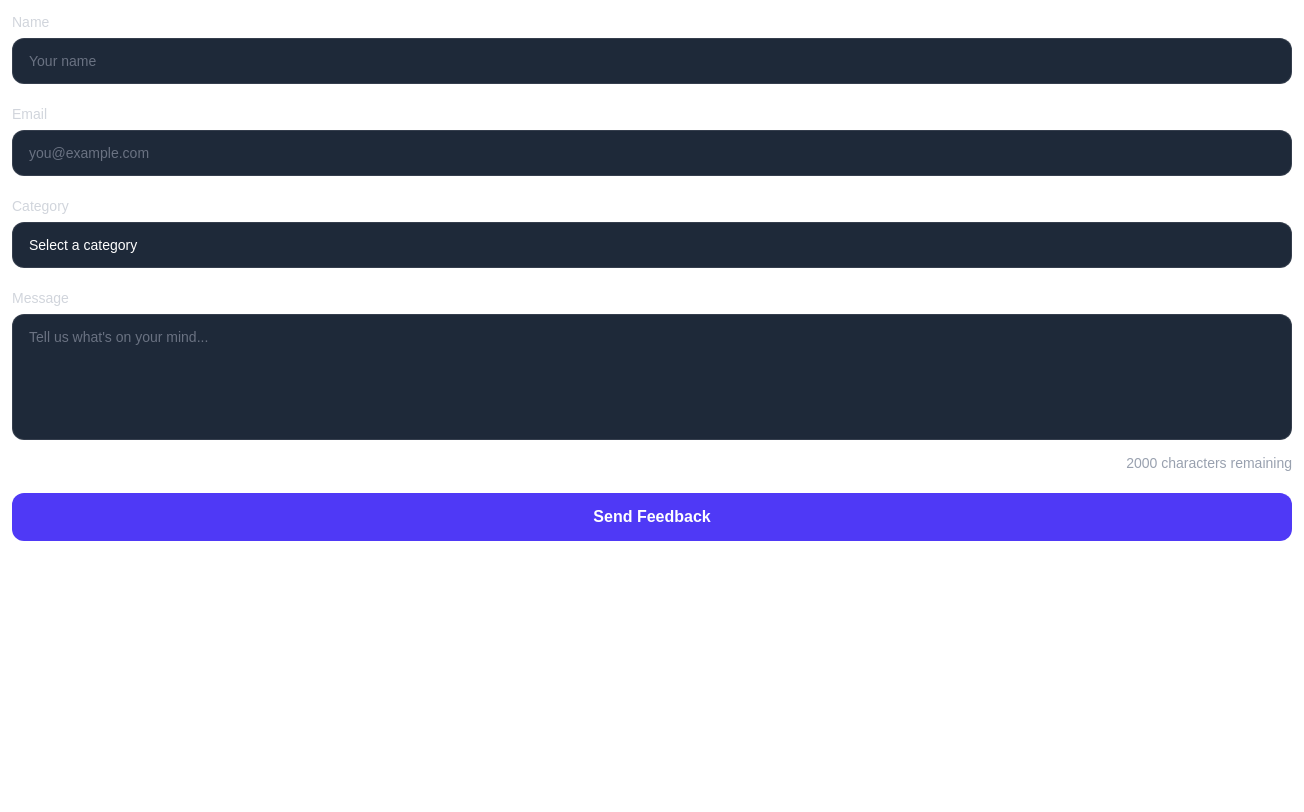
FeedbackForm › shows network error message when fetch throws
This screenshot has width=1304, height=812.
In the field labelled "Name": (652, 61) [12, 38, 1292, 84], type "Test User"
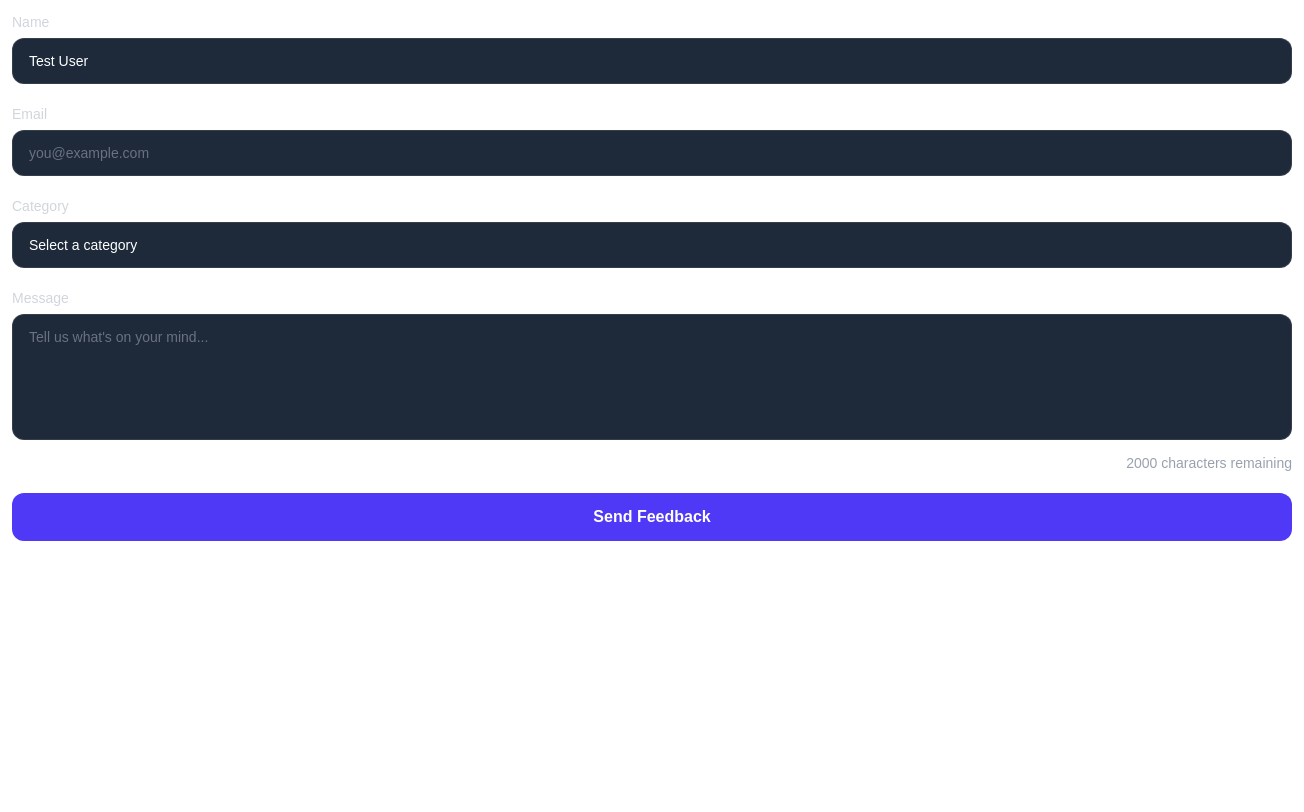
In the field labelled "Email": (652, 153) [12, 130, 1292, 176], type "test@example.com"
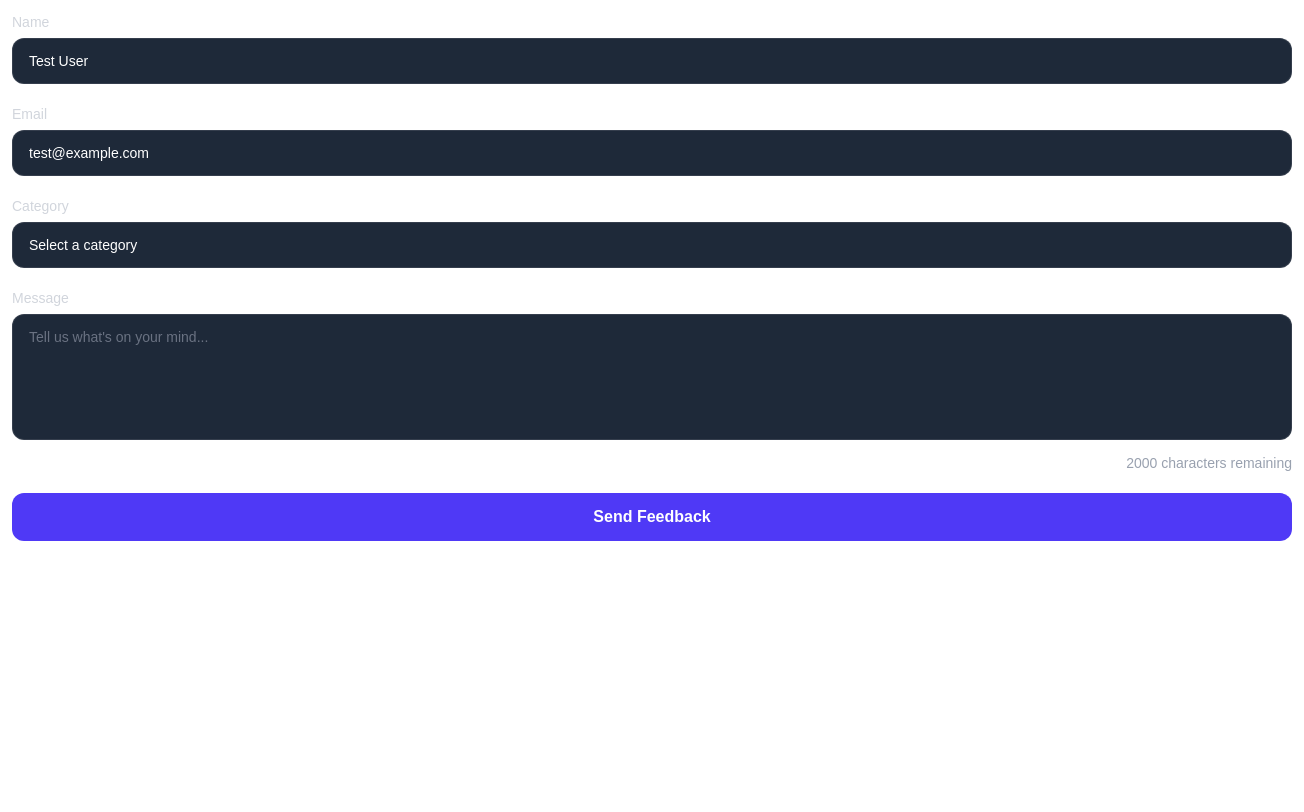
Select "Bug Report" in the dropdown labelled "Category": (652, 245) [12, 222, 1292, 268]
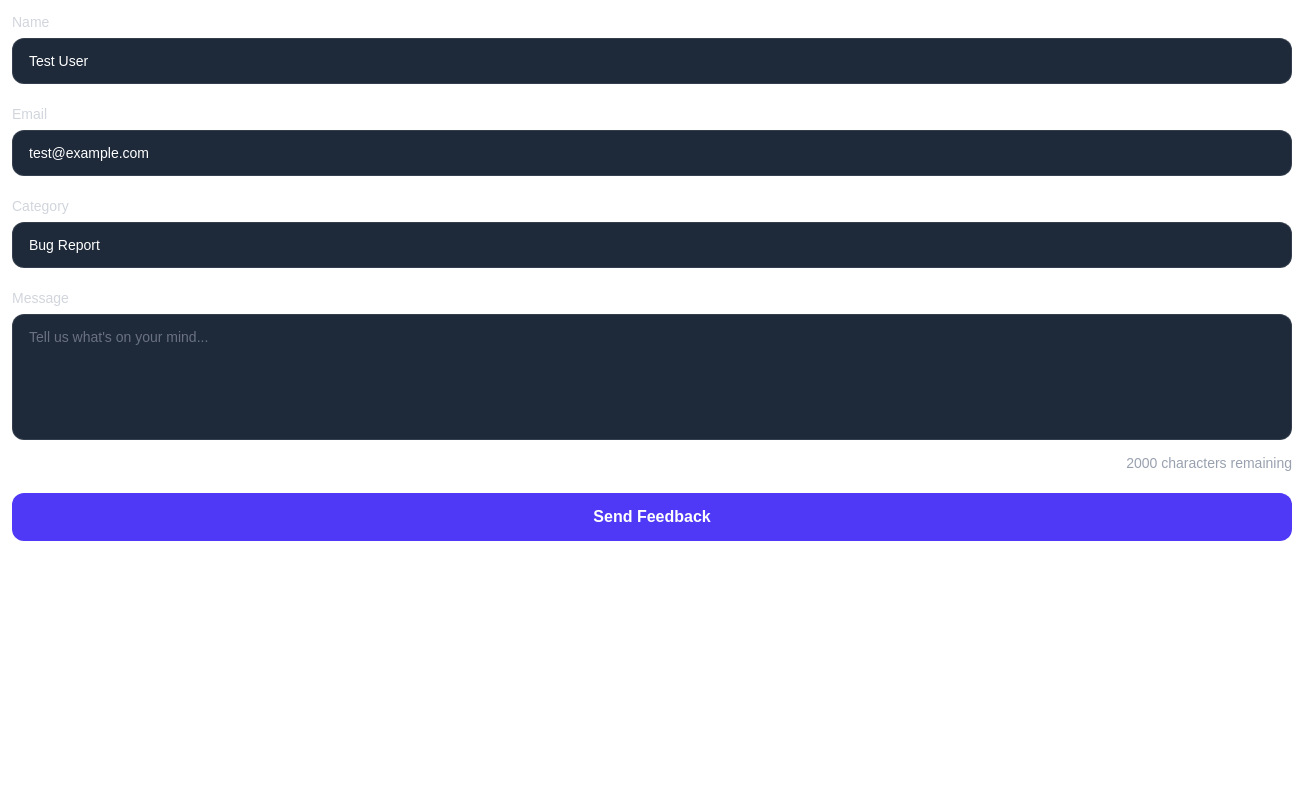
In the text box labelled "Message": (652, 377) [12, 314, 1292, 440], type "This is a test message that is long enough."
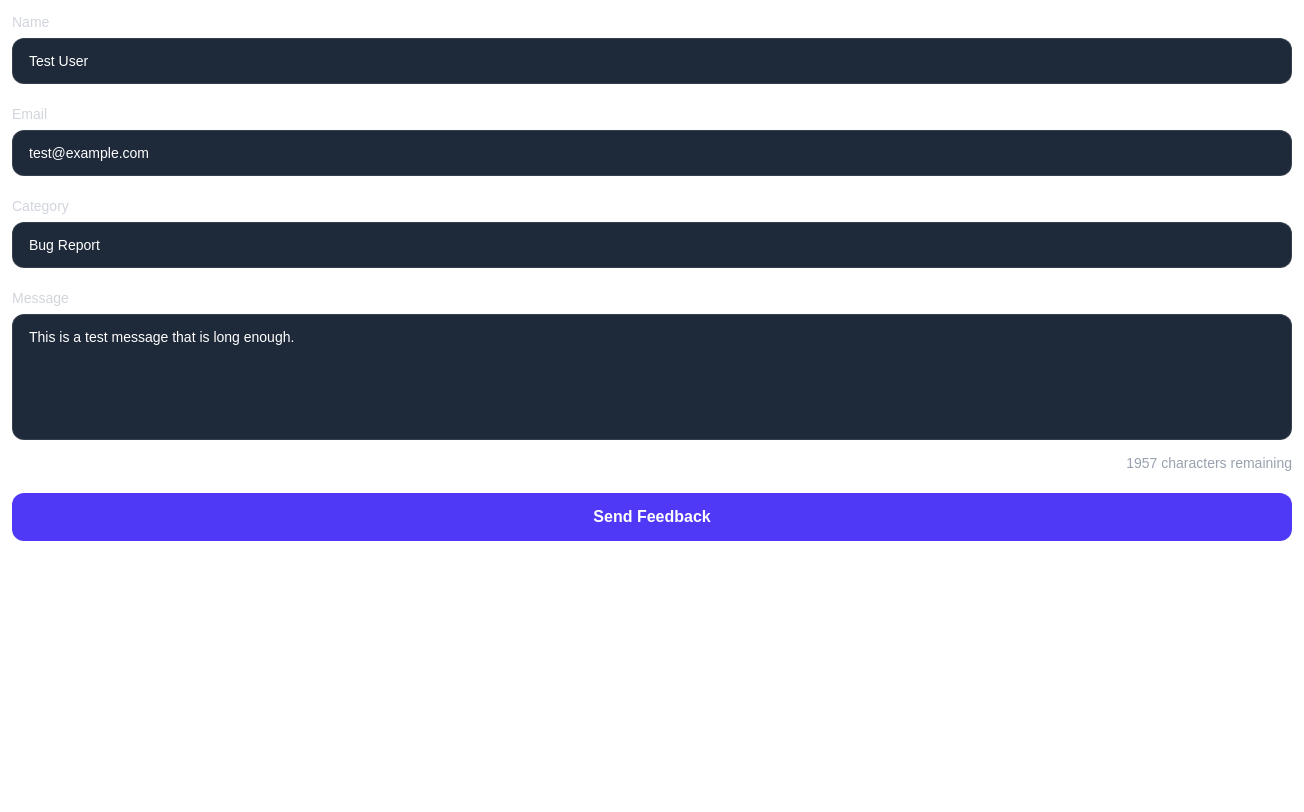
Click the button "Send Feedback": (652, 517) [12, 493, 1292, 541]
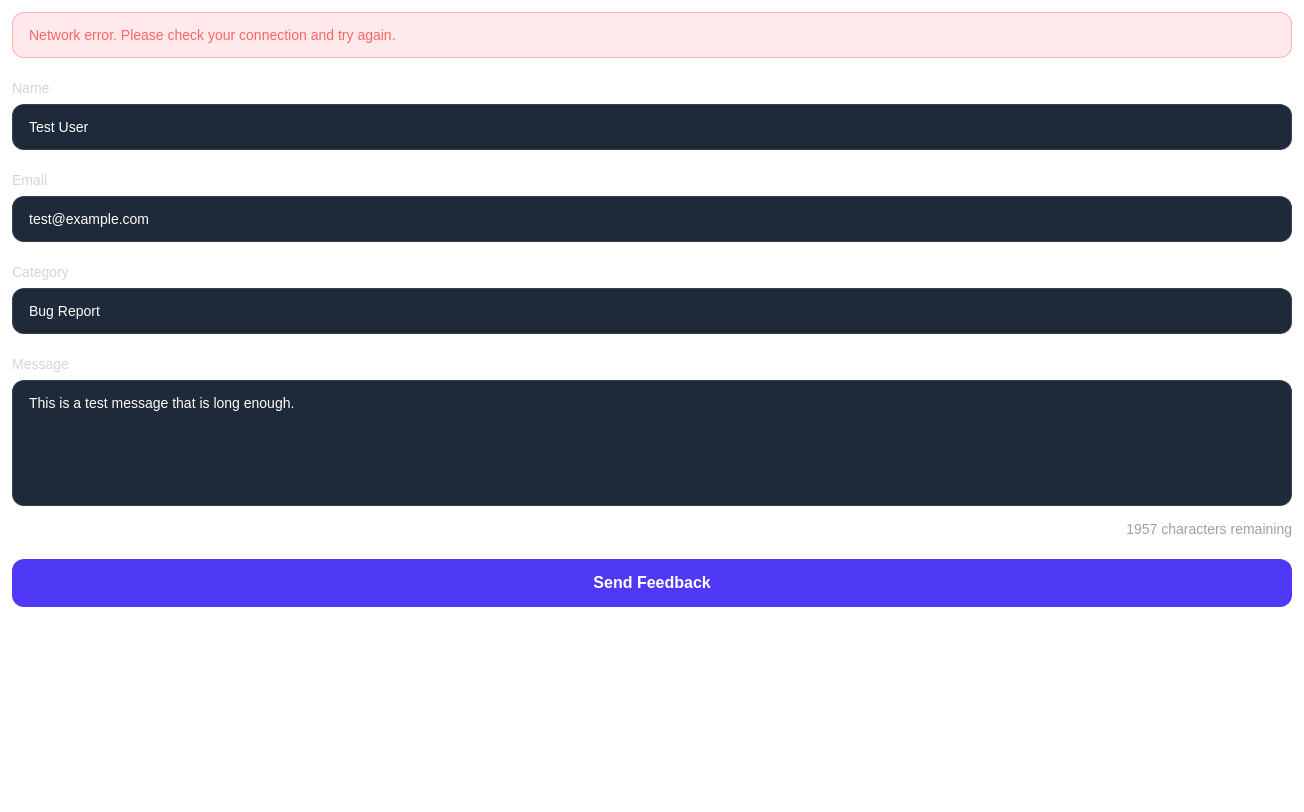
Now the text "Network error. Please check your connection and try again." is shown, box [12, 12, 1292, 58]
